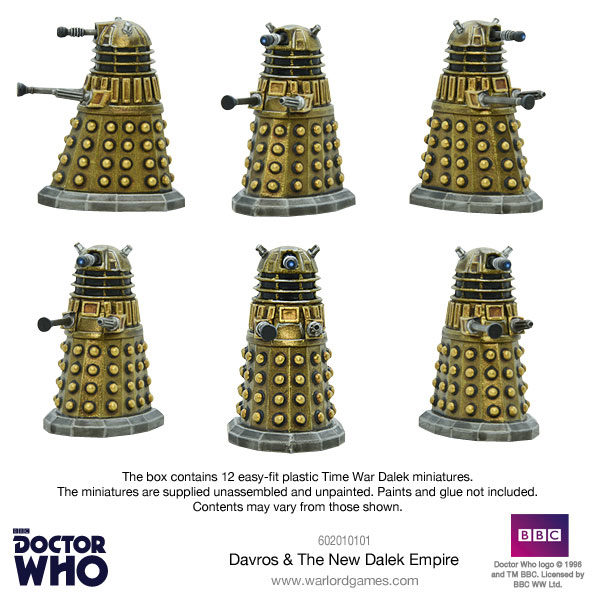dalek: (210, 213, 368, 473), (370, 22, 547, 225), (32, 0, 184, 206), (409, 225, 544, 450), (238, 4, 356, 213), (44, 235, 157, 437)
